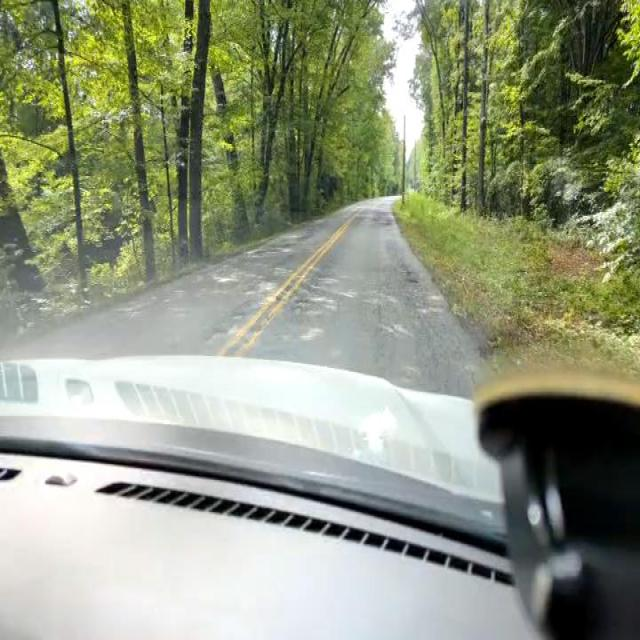pothole: (401, 264, 423, 287)
